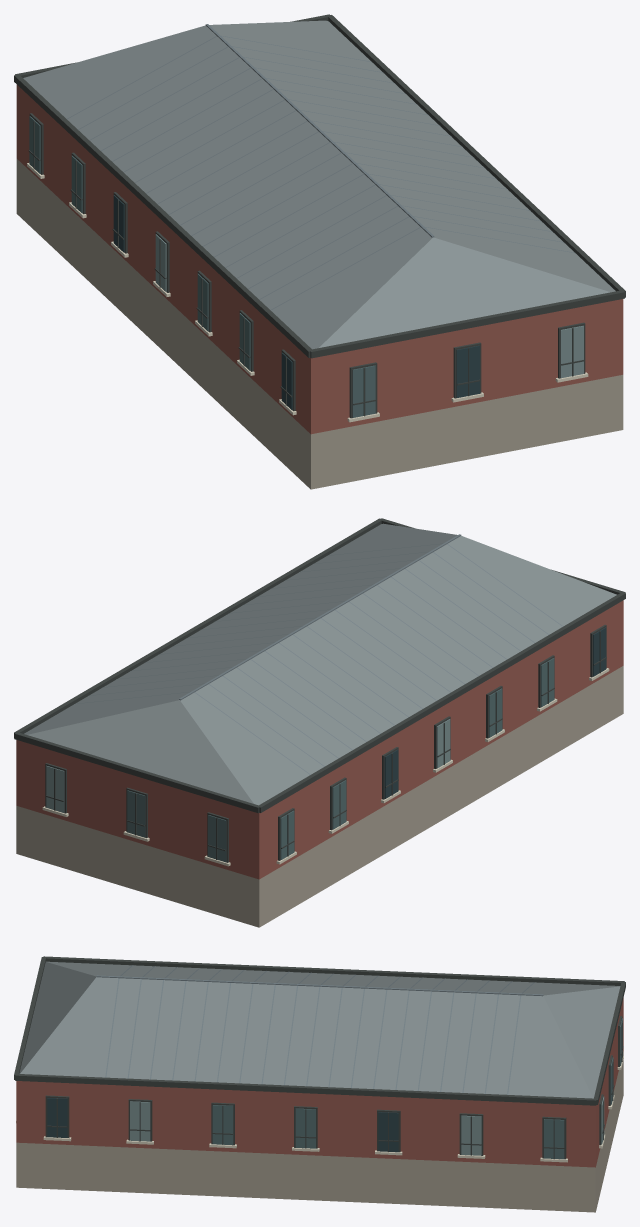
File: oxford-district-technology.glb
3 renders of one model, top to bottom at view 1: azimuth 30°, elevation 25°; view 2: azimuth 150°, elevation 25°; view 3: azimuth 270°, elevation 25°, orthographic. The views are drawn at different scales.
Visible parts, largest first — view 1: 598601614 | Roof, 598601614 | Shell and foundation, 598601614 | Facades; view 2: 598601614 | Roof, 598601614 | Shell and foundation, 598601614 | Facades; view 3: 598601614 | Roof, 598601614 | Shell and foundation, 598601614 | Facades.
Part boxes in pixels (box(x1,y1,x2,y2)): 598601614 | Roof: box(23, 20, 615, 349); 598601614 | Shell and foundation: box(16, 84, 623, 489); 598601614 | Facades: box(14, 14, 625, 422); 598601614 | Roof: box(24, 523, 616, 805); 598601614 | Shell and foundation: box(16, 600, 623, 927); 598601614 | Facades: box(14, 518, 625, 866); 598601614 | Roof: box(19, 961, 620, 1098); 598601614 | Shell and foundation: box(16, 998, 623, 1212); 598601614 | Facades: box(14, 956, 625, 1162).
Size of the model in its own units: 13.69 by 6.91 by 24.57.
